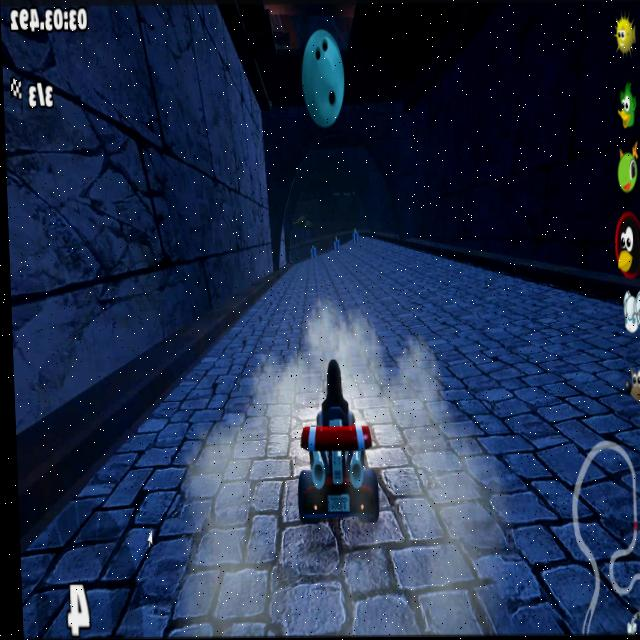bonus: (306, 243, 318, 266), (330, 236, 342, 254), (352, 227, 360, 243)
player_kart: (292, 348, 383, 529)
track: (21, 530, 385, 636), (382, 490, 640, 636), (377, 333, 518, 500), (513, 314, 640, 481), (268, 269, 512, 336), (213, 344, 296, 536), (120, 422, 218, 530), (66, 471, 121, 529), (508, 278, 573, 316), (167, 370, 214, 422), (351, 245, 427, 277), (238, 303, 272, 340), (320, 256, 352, 270), (424, 252, 443, 272)
